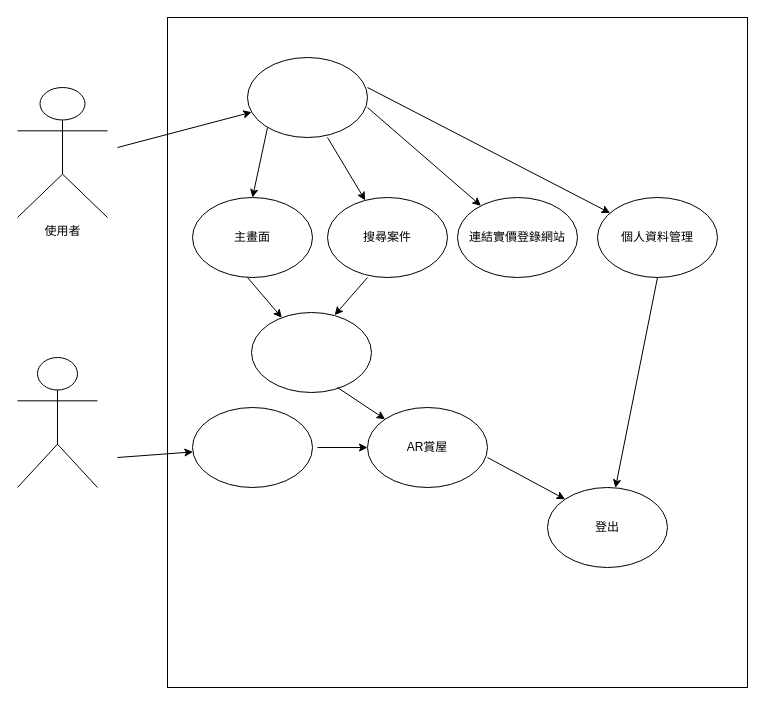
Some shapes in this 765 by 705 pixel diagram are drawn without their labels. Each missing label, with the centre of its shape:
"登入系統" goes at (307,97).
"管理者" goes at (57,422).
"資料管理 定期更新實屋現況" goes at (252,447).
"選擇案件" goes at (311,352).
